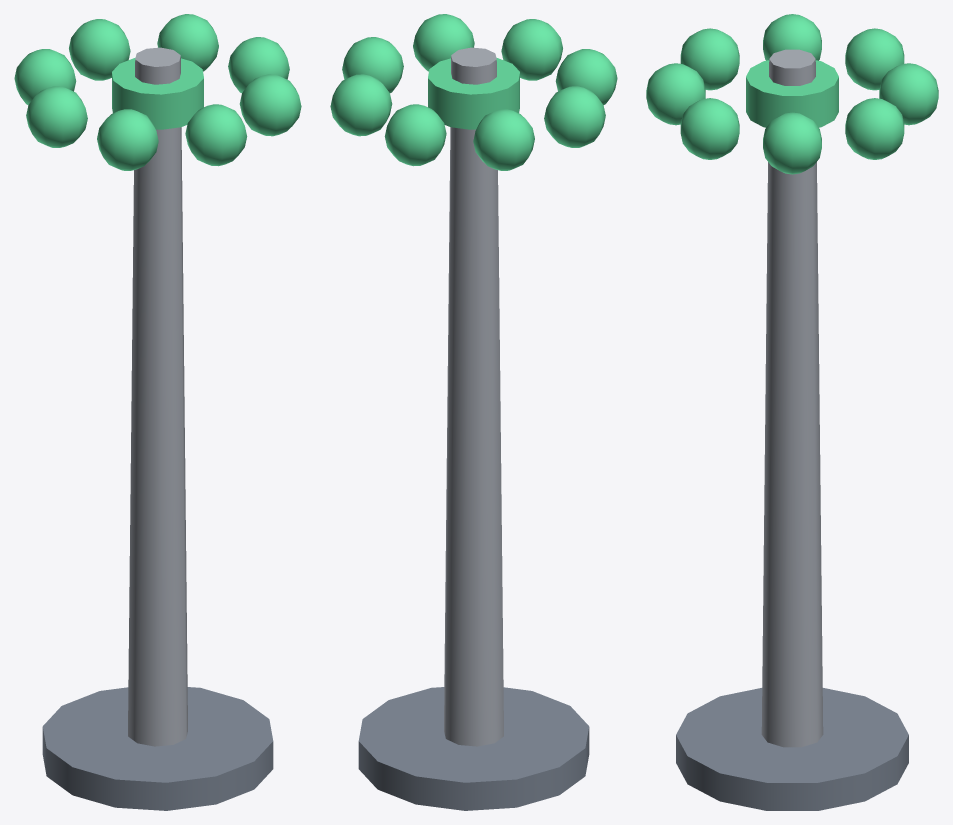
Rendered from acoustic.glb.
3 renders of one model, left to right at view 1: azimuth 30°, elevation 25°; view 2: azimuth 150°, elevation 25°; view 3: azimuth 270°, elevation 25°, orthographic.
Bounding box in the file's own units: 0.38 × 1 × 0.3761.
